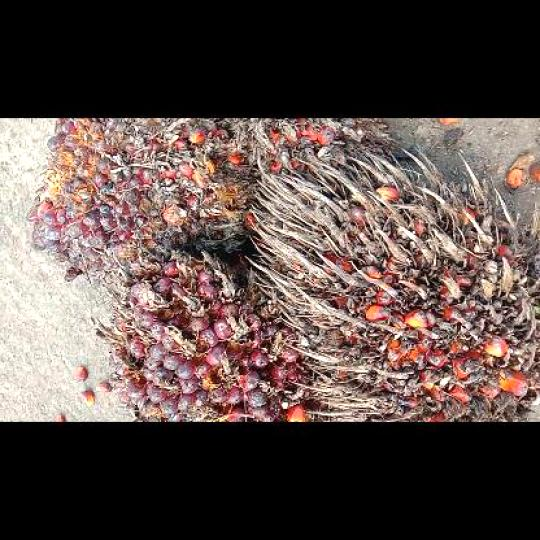masak: (96, 250, 327, 420), (28, 118, 258, 287)
terlalu masak: (246, 148, 538, 421), (217, 118, 396, 186)
